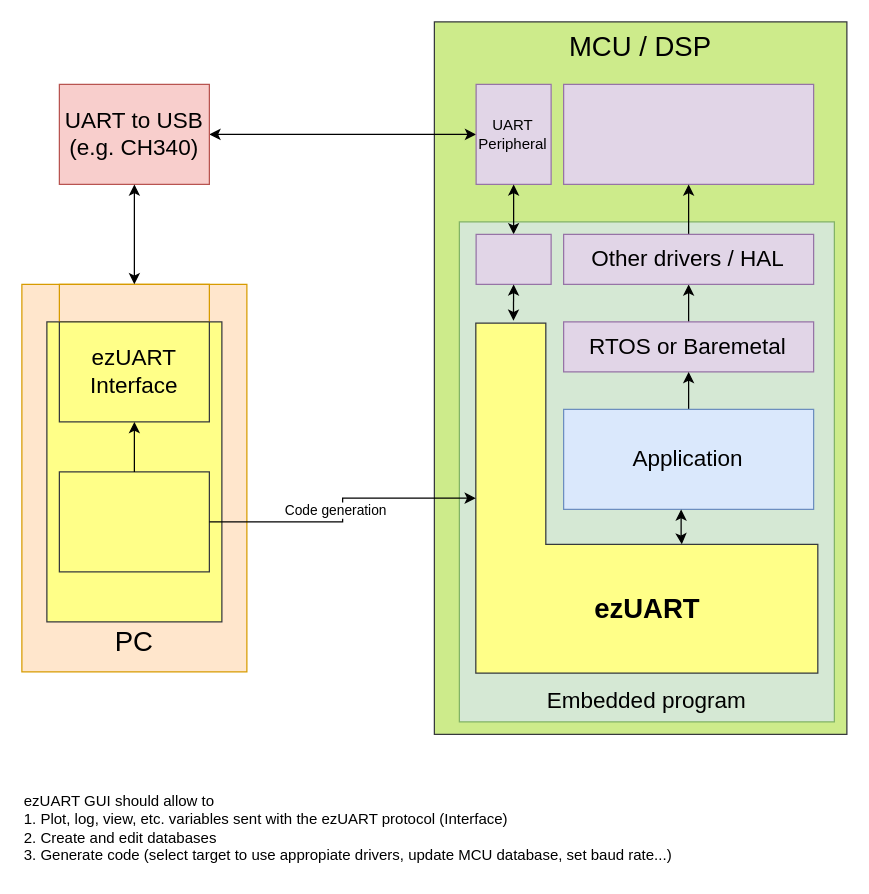
This 869x894 diagram has some shape labels left out. The box of each missing label's shape, as (x1, y1, x2, y2) in pixels:
COM X: (58, 283, 209, 322)
ezUART Config Tool: (58, 471, 209, 572)
ezUART GUI: (46, 321, 222, 622)
Other peripherals: (562, 83, 814, 184)
UART Driver: (475, 233, 551, 284)
